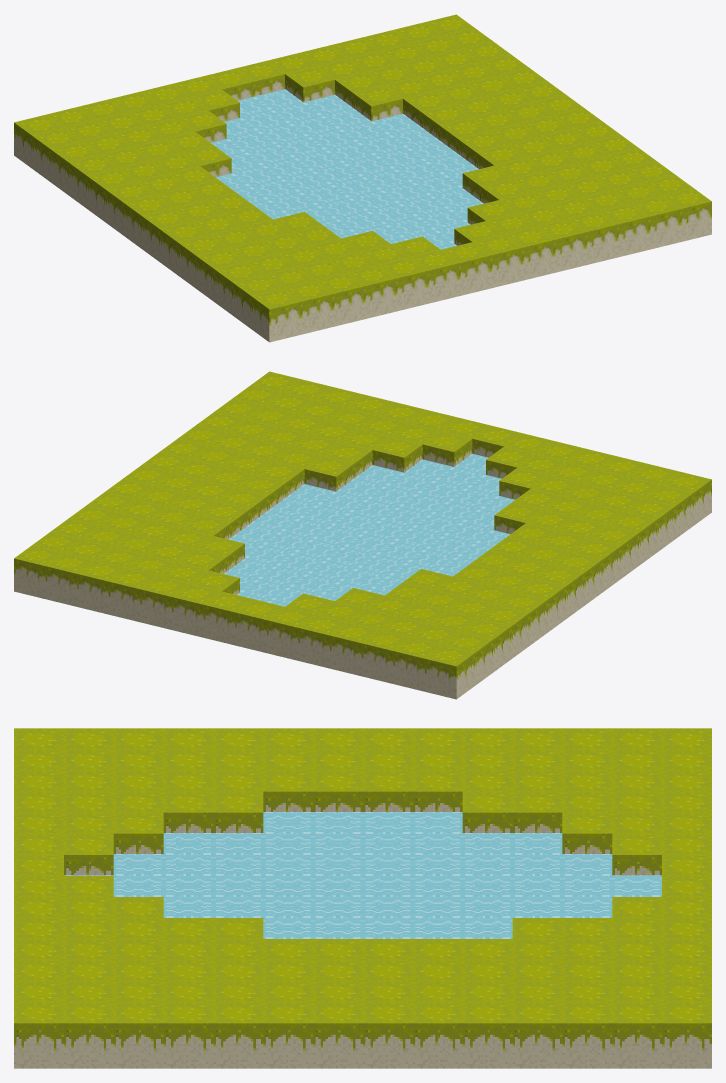
The model's file is st1_mhe3.fbx.
The picture shows the model from 3 angles, top to bottom: view 1: azimuth 30°, elevation 25°; view 2: azimuth 150°, elevation 25°; view 3: azimuth 270°, elevation 25°; orthographic projection. The views are drawn at different scales.
Parts seen in each view (by area): view 1: Ground_Grass_D__2__1__42__1; view 2: Ground_Grass_D__2__1__42__1; view 3: Ground_Grass_D__2__1__42__1.
Boxes of the visible parts, left/top/right/bottom form: Ground_Grass_D__2__1__42__1: left=14, top=14, right=711, bottom=342; Ground_Grass_D__2__1__42__1: left=14, top=371, right=711, bottom=699; Ground_Grass_D__2__1__42__1: left=14, top=728, right=711, bottom=1068.
Bounding box in the file's own units: 8400 × 600 × 8400.
2 materials, 2 textured.
